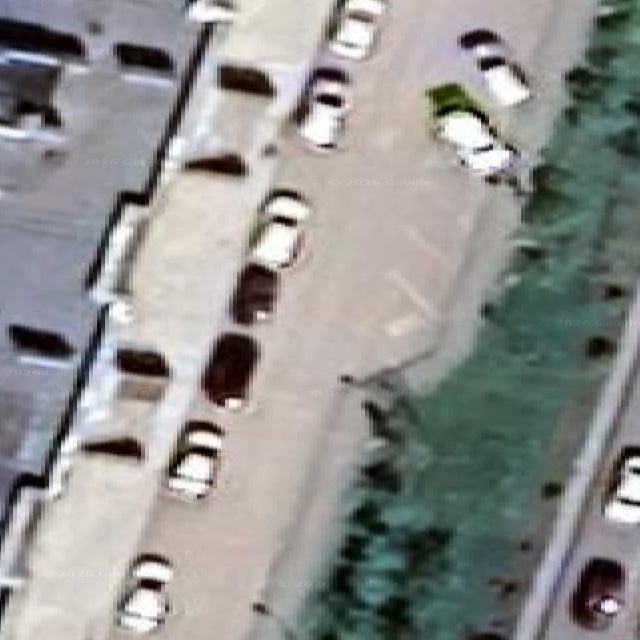car: (427, 83, 516, 179), (457, 28, 528, 104), (249, 193, 307, 268), (201, 332, 258, 408), (116, 555, 172, 632), (166, 424, 221, 500), (571, 557, 623, 630), (300, 76, 348, 148), (329, 0, 384, 59), (603, 451, 639, 524), (187, 0, 235, 23)
